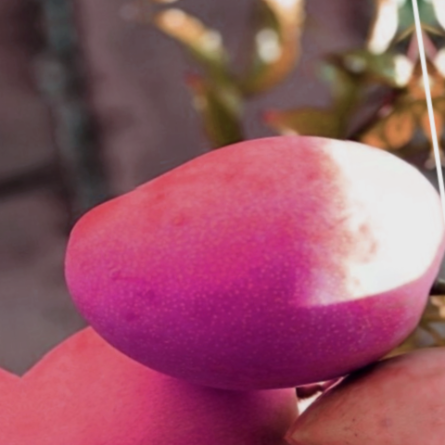mango: (9, 91, 445, 445)
